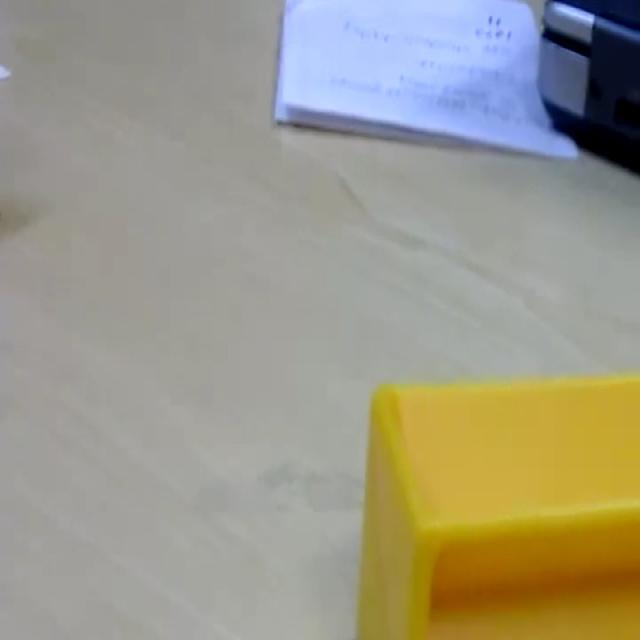yellow_block: (356, 371, 638, 636)
